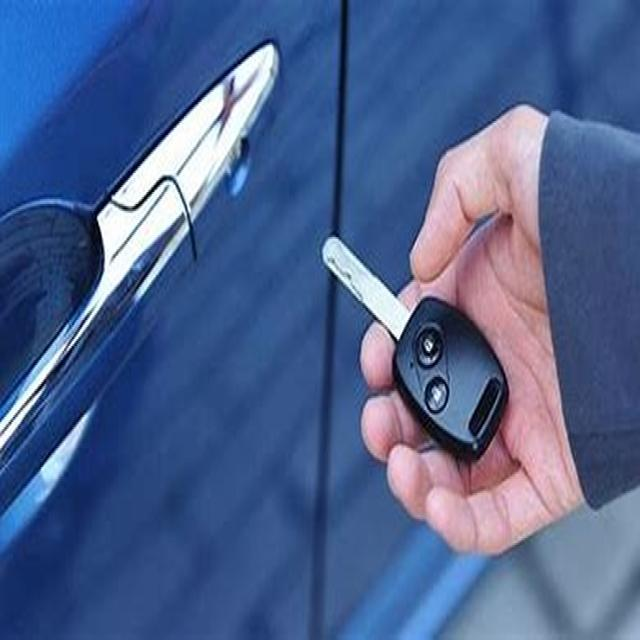key: (296, 235, 524, 454)
